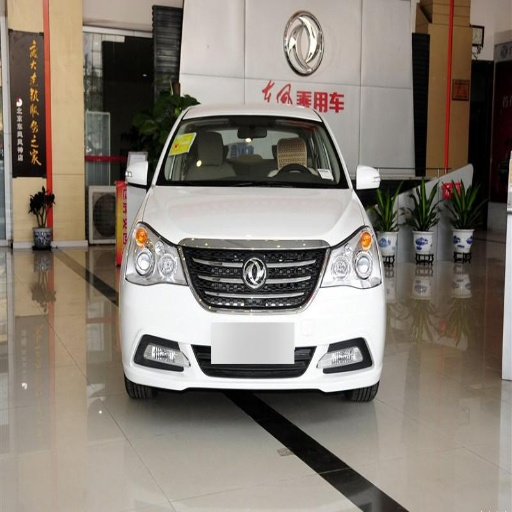front_bumper: (121, 237, 383, 390)
front_right_light: (123, 222, 185, 284)
hood: (143, 186, 363, 250)
